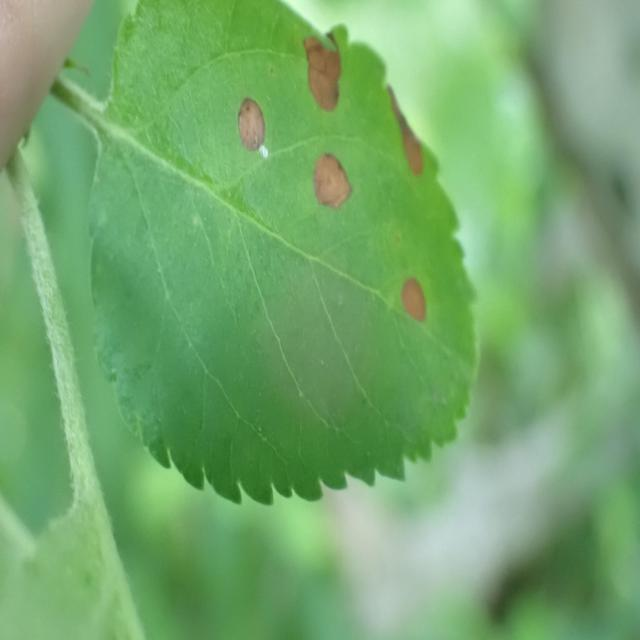Black Rot: (384, 72, 448, 202), (288, 10, 355, 119), (222, 70, 288, 176), (305, 149, 363, 248), (385, 256, 447, 342)
